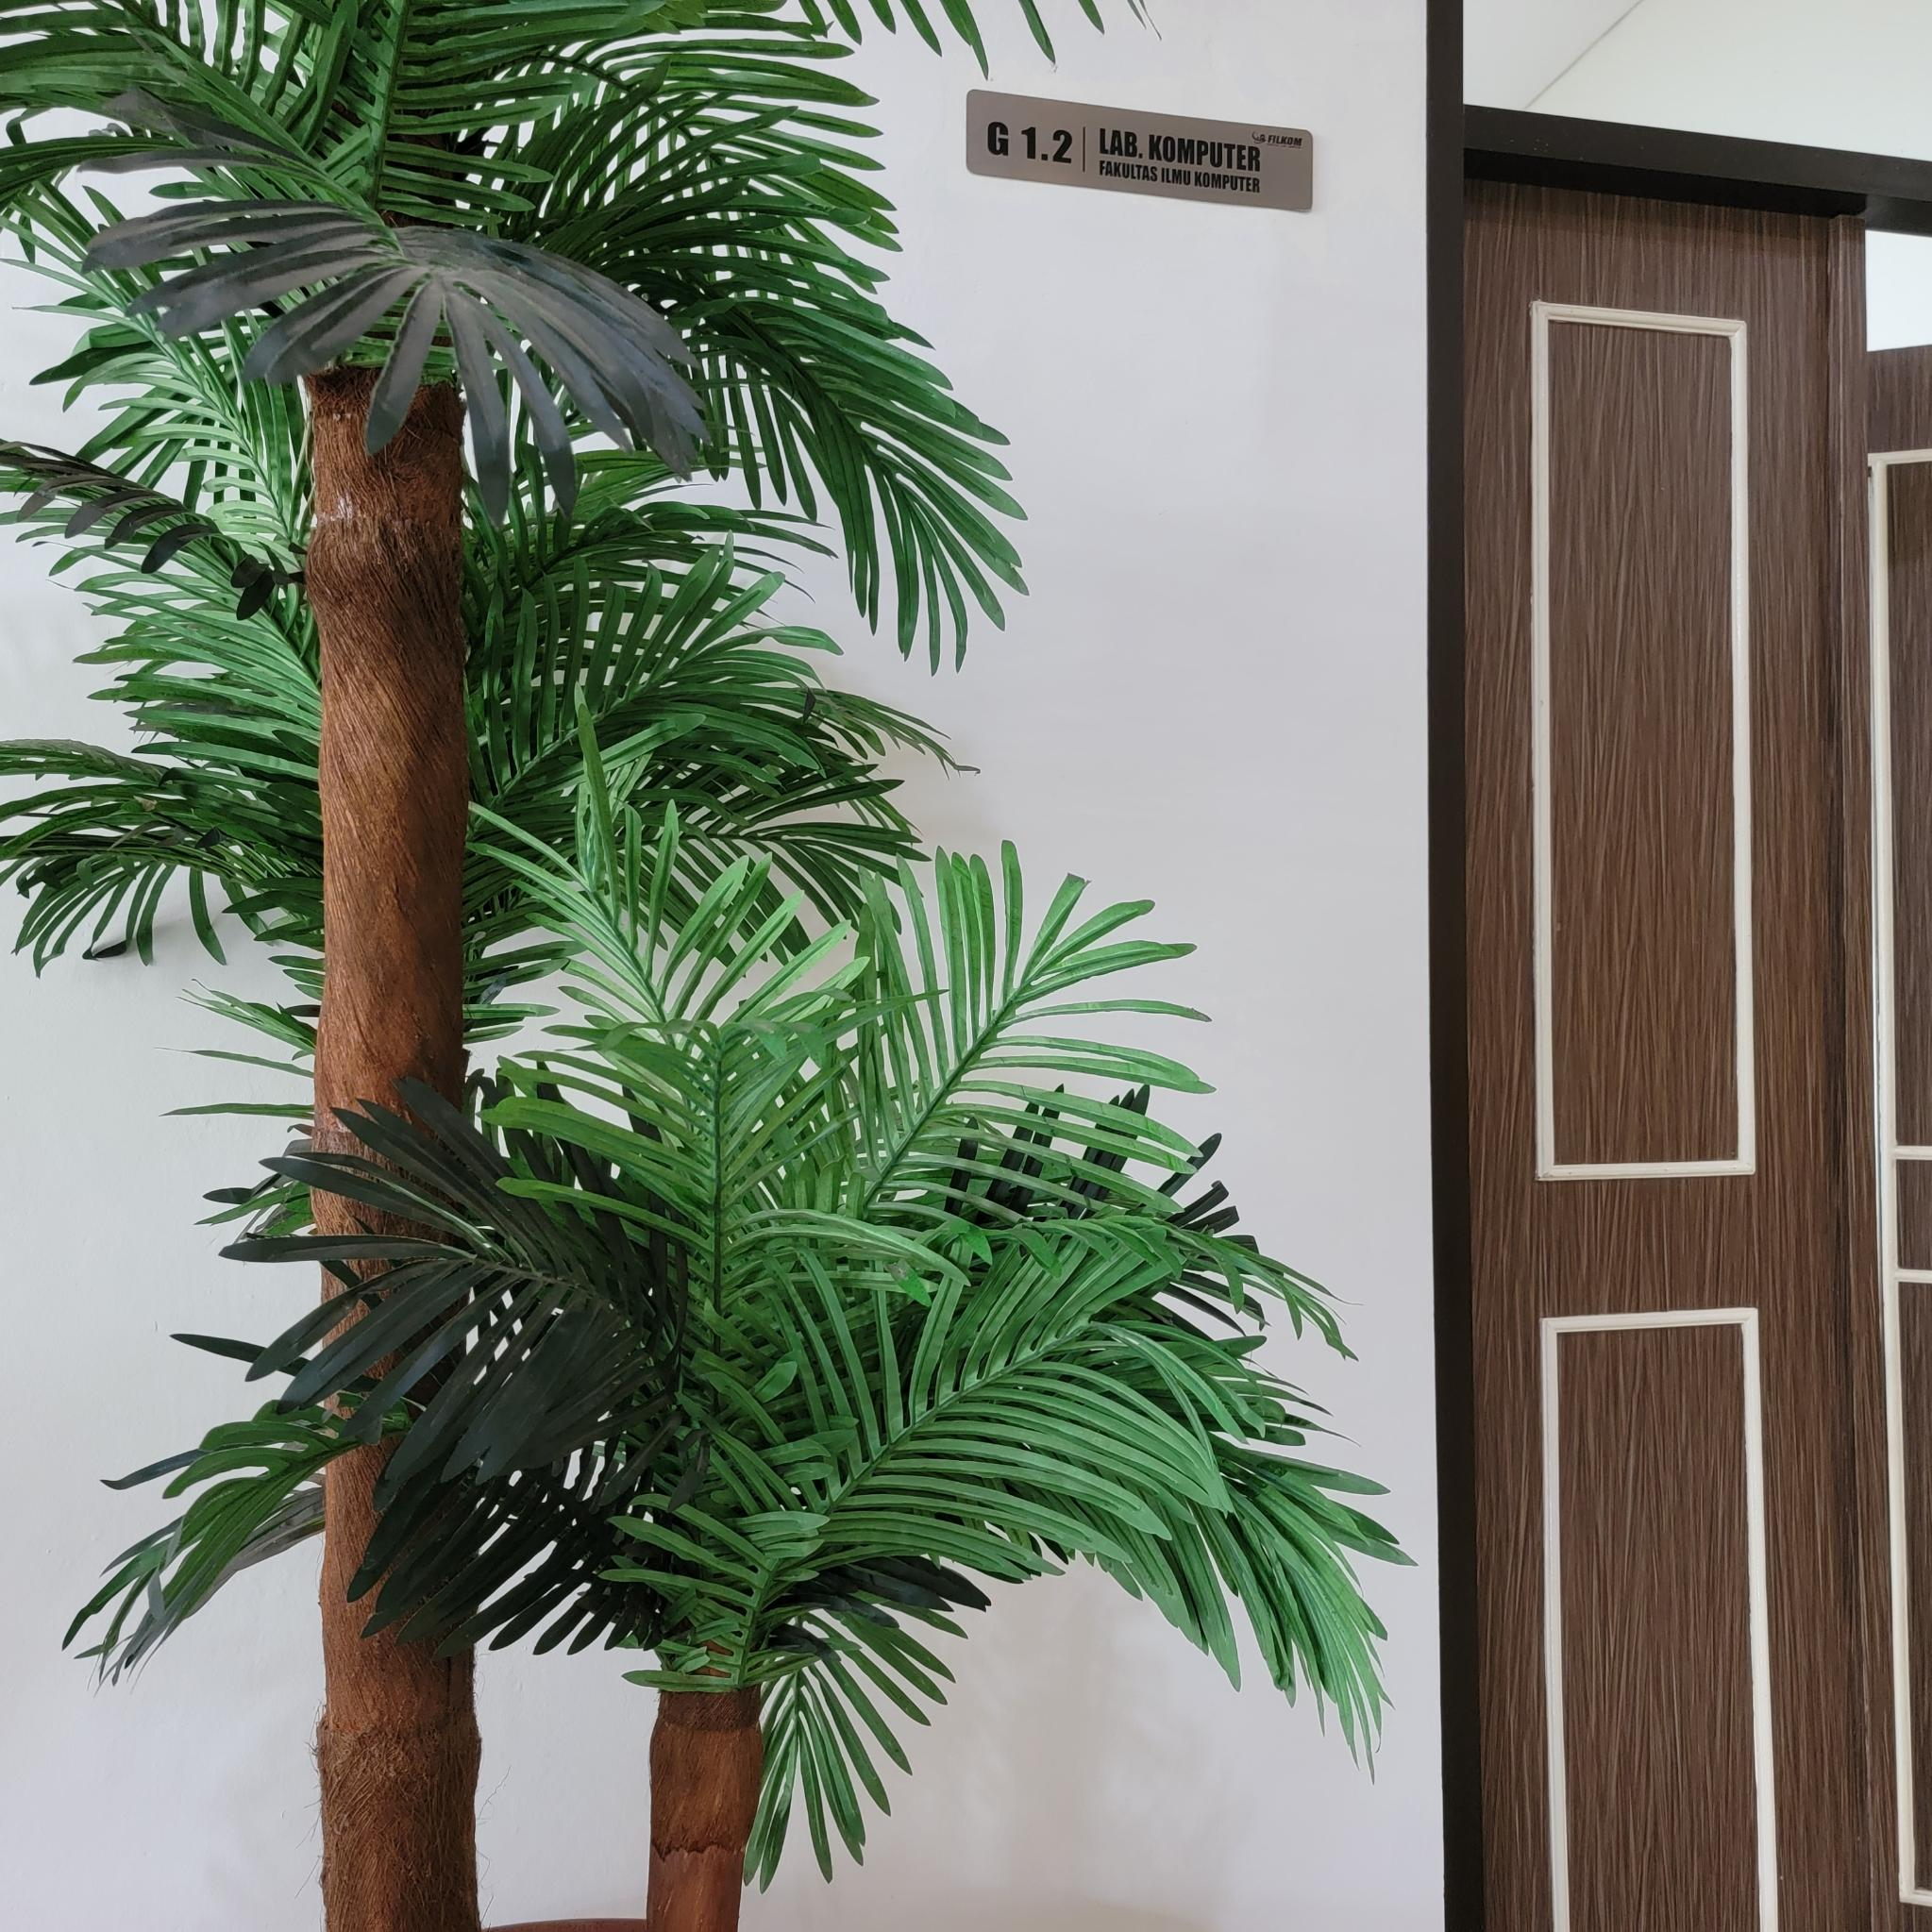plate: (966, 87, 1316, 214)
